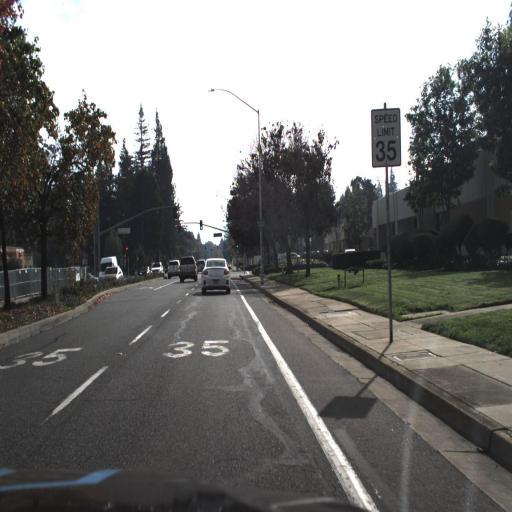car: (201, 255, 236, 298), (180, 254, 202, 288), (98, 252, 116, 280), (100, 263, 125, 282), (100, 264, 123, 282), (168, 256, 180, 281), (194, 258, 208, 274), (148, 260, 162, 274), (140, 262, 150, 276)
trafficLight-Green: (199, 218, 204, 230)
trafficLight-RedLeft: (176, 219, 183, 232), (124, 245, 129, 258)
truck: (96, 256, 117, 282)
